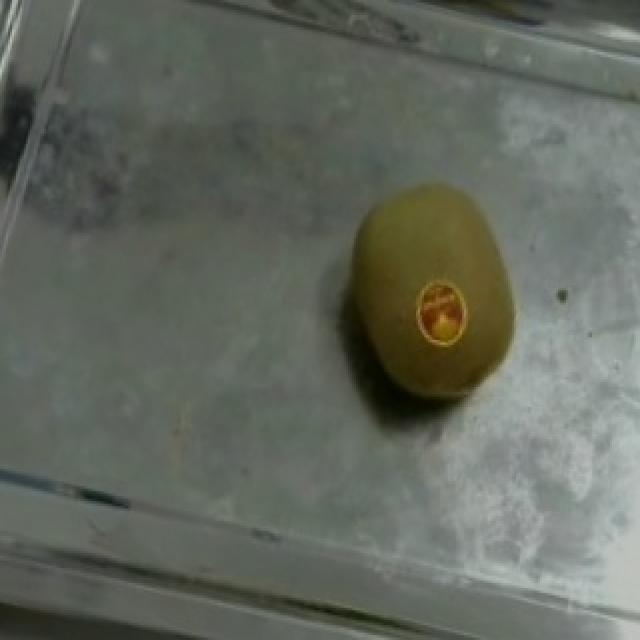Fruit: (304, 146, 556, 442)
